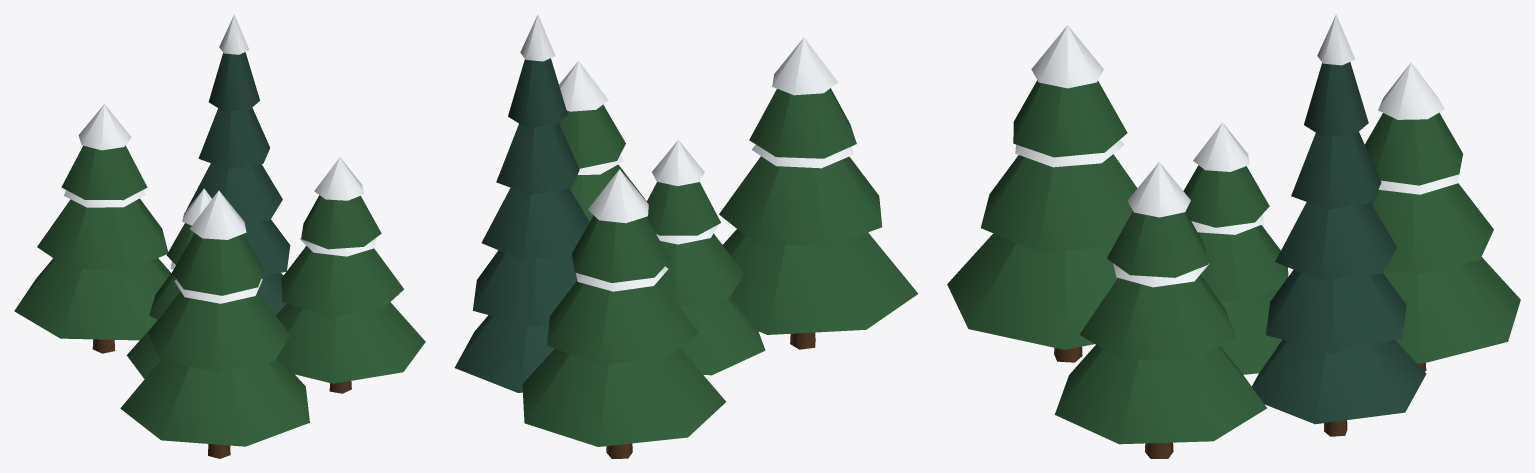
Rendered from sawyer_snowy_stand_a.glb.
3 views of the same model, side by side, from view 1: azimuth 30°, elevation 25°; view 2: azimuth 150°, elevation 25°; view 3: azimuth 270°, elevation 25° (orthographic). The views are drawn at different scales.
Parts seen in each view (by area): view 1: snowpine_0_tier0, snowpine_2_tier0, snowpine_3_tier0, snowpine_0_tier1, snowpine_2_tier1, snowpine_3_tier1, snowpine_0_tier2, snowpine_2_tier2, snowspruce_4_tier2, snowpine_3_tier2, snowspruce_4_tier3, snowspruce_4_tier4 (+13 smaller); view 2: snowpine_2_tier0, snowpine_0_tier0, snowpine_0_tier1, snowpine_2_tier1, snowspruce_4_tier1, snowspruce_4_tier2, snowpine_0_tier2, snowpine_2_tier2, snowspruce_4_tier0, snowpine_1_tier0, snowspruce_4_tier3, snowpine_1_tier1 (+11 smaller); view 3: snowpine_3_tier0, snowpine_0_tier0, snowpine_0_tier1, snowspruce_4_tier0, snowpine_2_tier0, snowpine_3_tier1, snowspruce_4_tier1, snowpine_2_tier1, snowspruce_4_tier2, snowpine_0_tier2, snowpine_2_tier2, snowpine_3_tier2 (+14 smaller).
Part boxes in pixels (box(x1,y1,x2,y2)): snowpine_0_tier0: box(120, 356, 309, 446); snowpine_2_tier0: box(14, 258, 171, 340); snowpine_3_tier0: box(276, 302, 425, 383); snowpine_0_tier1: box(148, 291, 290, 371); snowpine_2_tier1: box(37, 198, 167, 270); snowpine_3_tier1: box(281, 246, 403, 316); snowpine_0_tier2: box(172, 233, 264, 295); snowpine_2_tier2: box(61, 145, 147, 200); snowspruce_4_tier2: box(186, 163, 282, 222); snowpine_3_tier2: box(301, 195, 381, 249); snowspruce_4_tier3: box(198, 107, 269, 168); snowspruce_4_tier4: box(208, 52, 259, 111); snowpine_2_tier0: box(522, 348, 725, 446); snowpine_0_tier0: box(723, 229, 918, 334); snowpine_0_tier1: box(719, 156, 882, 247); snowpine_2_tier1: box(547, 279, 698, 364); snowspruce_4_tier1: box(473, 250, 577, 327); snowspruce_4_tier2: box(481, 188, 589, 260); snowpine_0_tier2: box(749, 88, 856, 158); snowpine_2_tier2: box(572, 215, 670, 282); snowspruce_4_tier0: box(454, 315, 554, 392); snowpine_1_tier0: box(680, 294, 765, 375); snowspruce_4_tier3: box(496, 123, 579, 194); snowpine_1_tier1: box(659, 233, 744, 306); snowpine_3_tier0: box(1054, 345, 1266, 444); snowpine_0_tier0: box(947, 233, 1117, 349); snowpine_0_tier1: box(981, 154, 1137, 251); snowspruce_4_tier0: box(1252, 340, 1426, 424); snowpine_2_tier0: box(1382, 257, 1520, 363); snowpine_3_tier1: box(1079, 275, 1236, 360); snowspruce_4_tier1: box(1266, 270, 1406, 353); snowpine_2_tier1: box(1371, 183, 1493, 274); snowspruce_4_tier2: box(1275, 202, 1397, 280); snowpine_0_tier2: box(1013, 80, 1127, 157); snowpine_2_tier2: box(1365, 112, 1462, 185); snowpine_3_tier2: box(1107, 211, 1208, 277).
Bounding box in the file's own units: 3.52 × 3.66 × 4.55.
